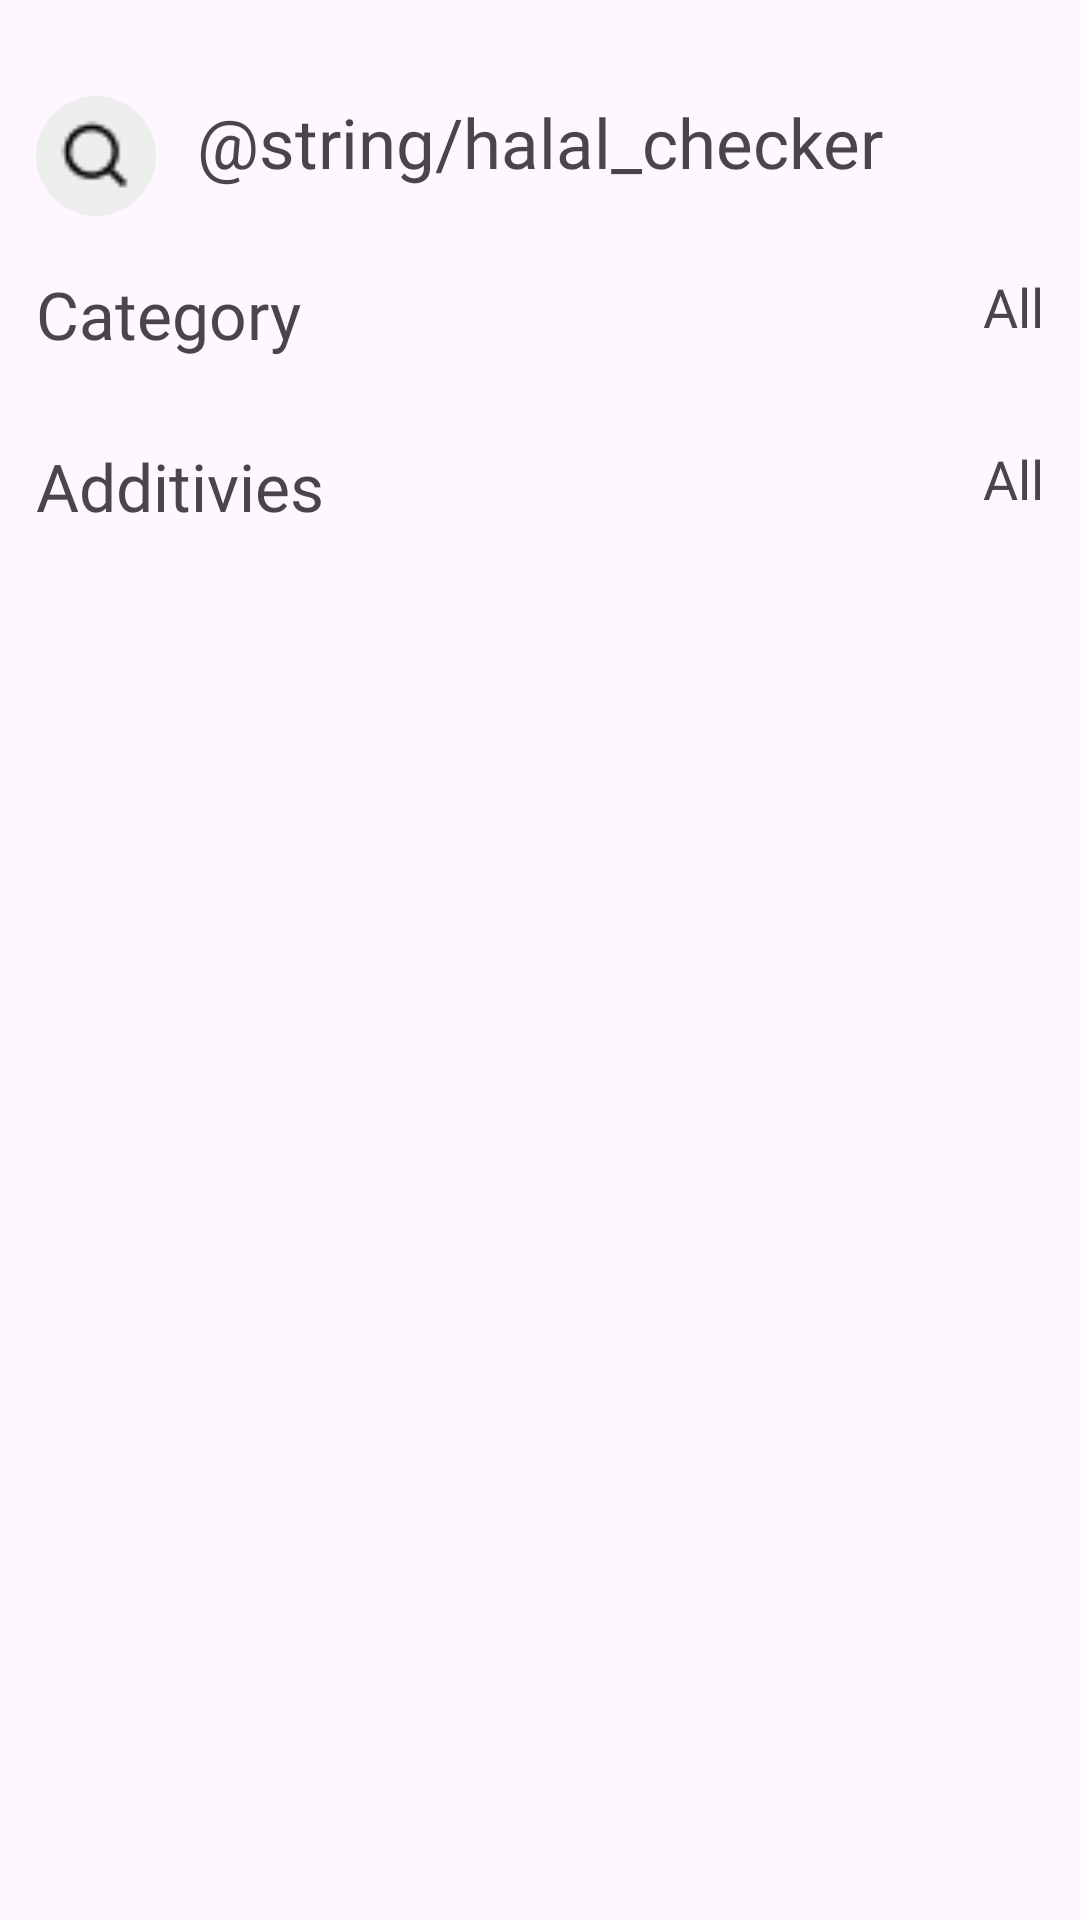

Icon click points for this 1080w x 1920h phone screenshot, format [x,y]:
search: [96,156]
